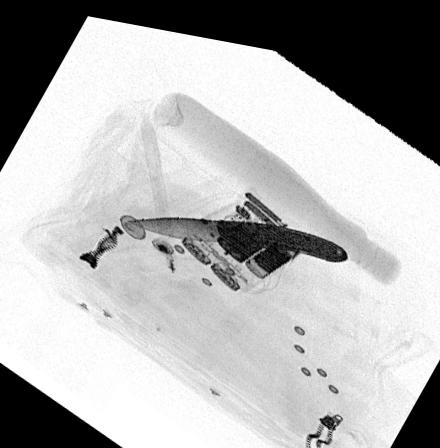Knife: (121, 210, 353, 254)
